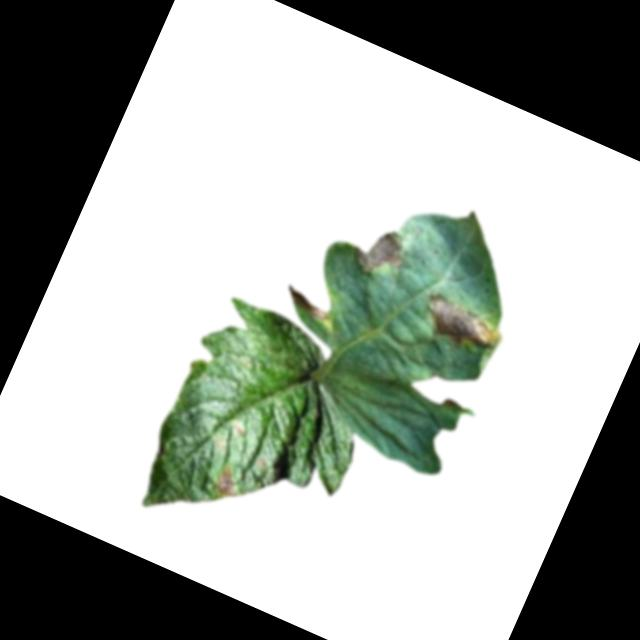Early_blight: (413, 286, 508, 364), (345, 218, 413, 288), (279, 283, 334, 324), (209, 464, 247, 503)
